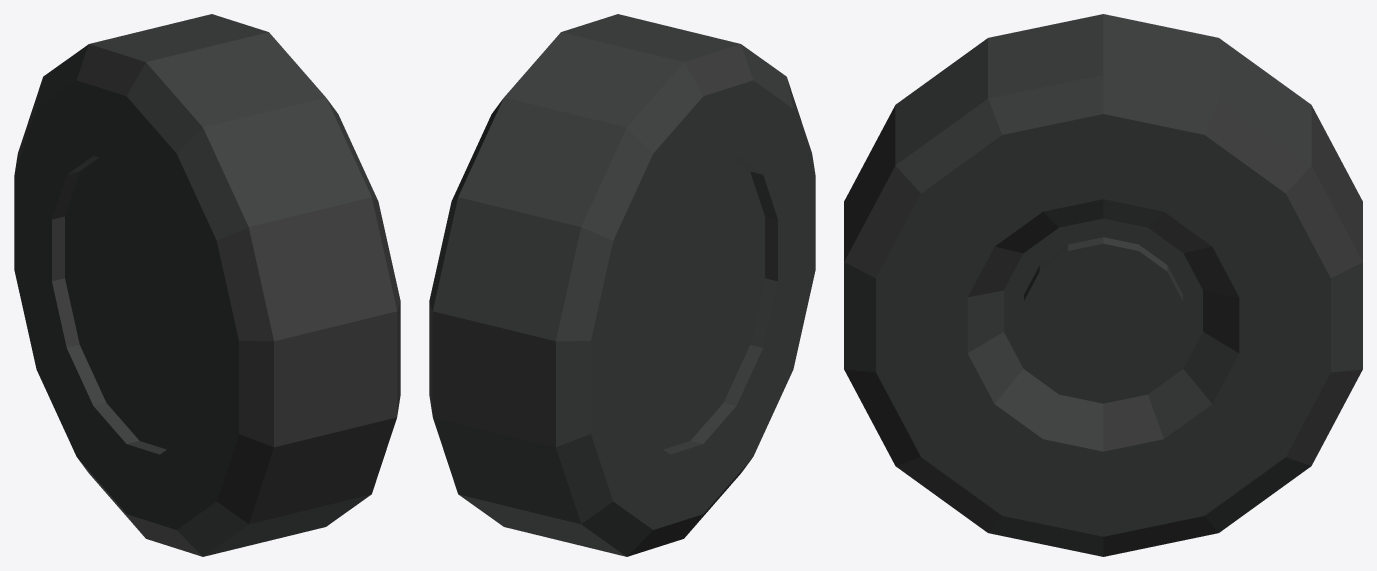
The model's file is humvee_wheel.glb.
3 views of the same model, side by side, from view 1: azimuth 30°, elevation 25°; view 2: azimuth 150°, elevation 25°; view 3: azimuth 270°, elevation 25° (orthographic).
Parts seen in each view (by area): view 1: humvee.001_Material_0.002; view 2: humvee.001_Material_0.002; view 3: humvee.001_Material_0.002.
Part boxes in pixels (<box>): humvee.001_Material_0.002: <box>14,14,400,556</box>; humvee.001_Material_0.002: <box>429,14,815,556</box>; humvee.001_Material_0.002: <box>844,14,1362,556</box>.
Size of the model in its own units: 0.2248 by 0.6332 by 0.6173.
Materials: 1 (1 with a texture image).
